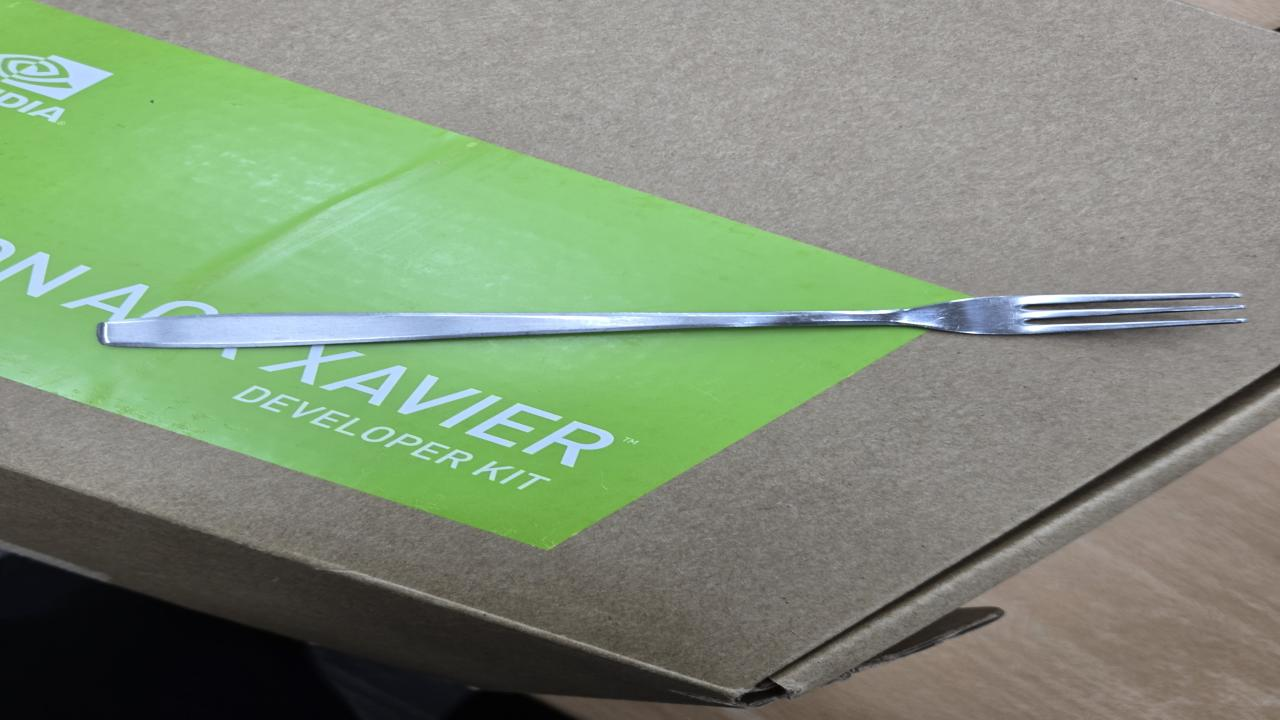fork: (106, 292, 1248, 351)
